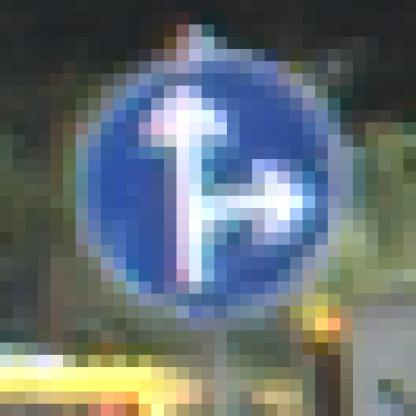Straight or Right: (64, 74, 354, 356)
